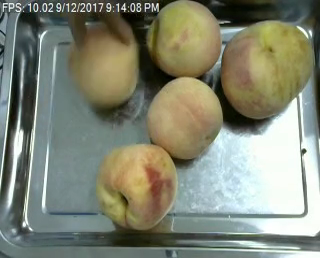Peach: (219, 19, 314, 120), (95, 142, 178, 232), (146, 80, 223, 159), (68, 23, 139, 108), (148, 0, 223, 79)
